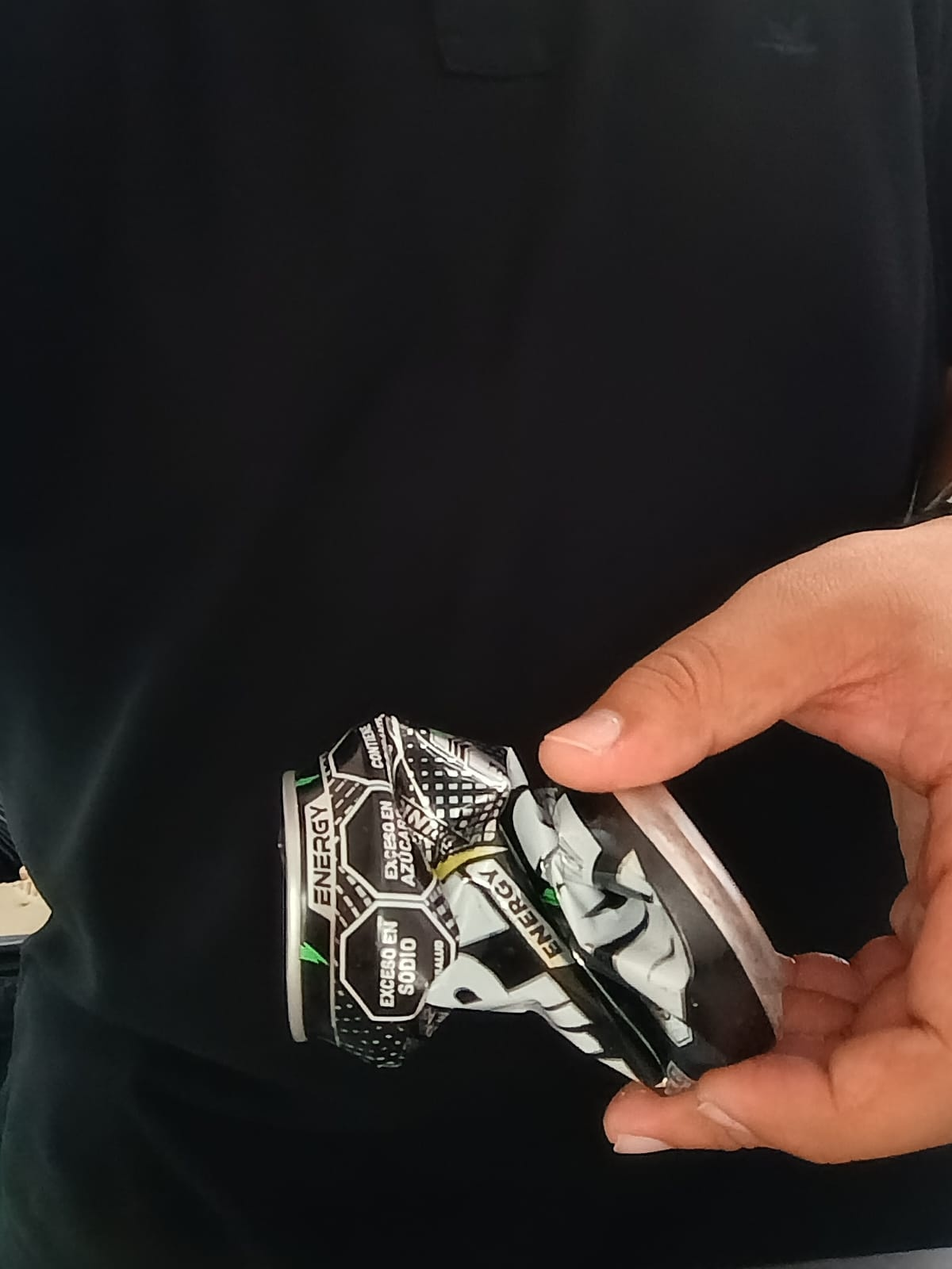Metal: (274, 713, 786, 1099)
